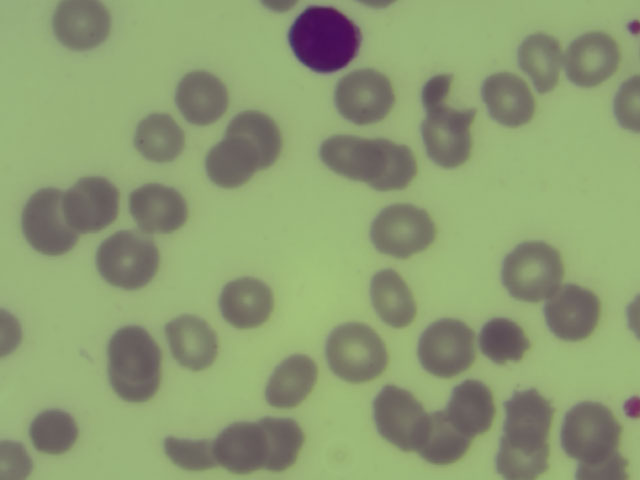Platlets: (624, 395, 640, 420), (626, 19, 640, 35)
RBC: (17, 187, 76, 255), (506, 242, 567, 303), (371, 202, 435, 260), (333, 72, 404, 124), (325, 325, 387, 382), (215, 277, 284, 327), (97, 236, 160, 290), (375, 389, 431, 449), (483, 71, 537, 127), (67, 178, 123, 231), (423, 319, 475, 376), (318, 134, 382, 180), (454, 377, 499, 442), (162, 318, 220, 368), (54, 1, 113, 50), (553, 284, 600, 345), (235, 111, 286, 167), (516, 33, 563, 91), (163, 424, 216, 475), (134, 111, 184, 164), (129, 185, 185, 232), (505, 393, 550, 451), (373, 270, 417, 329), (568, 404, 612, 463), (570, 31, 617, 86), (264, 415, 308, 473), (270, 354, 318, 407), (111, 330, 160, 380), (205, 141, 258, 187), (494, 438, 551, 480), (419, 117, 469, 164), (222, 420, 265, 474), (177, 75, 226, 121), (371, 138, 414, 189), (427, 78, 474, 123), (483, 319, 530, 363), (34, 408, 76, 456), (423, 416, 463, 462), (612, 72, 640, 134), (1, 438, 34, 480), (578, 457, 630, 480), (2, 309, 22, 356), (623, 287, 637, 339), (265, 1, 296, 15), (354, 1, 400, 10)
WBC: (292, 7, 361, 74)
